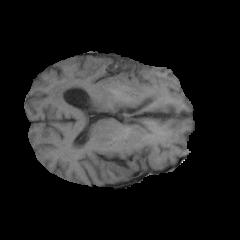glioma: (51, 60, 162, 113)
